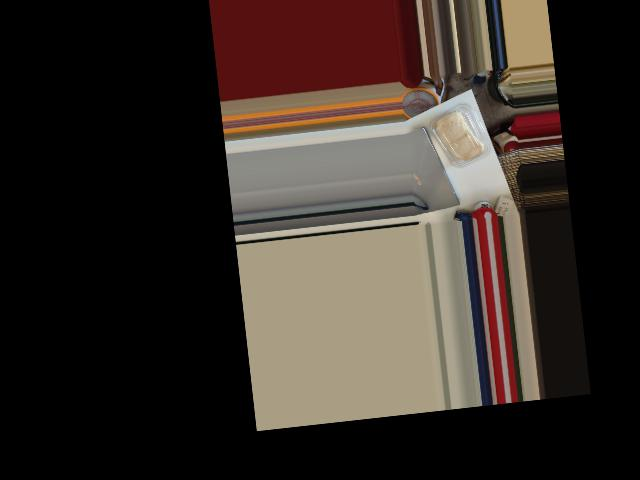cheese: (426, 96, 492, 172)
